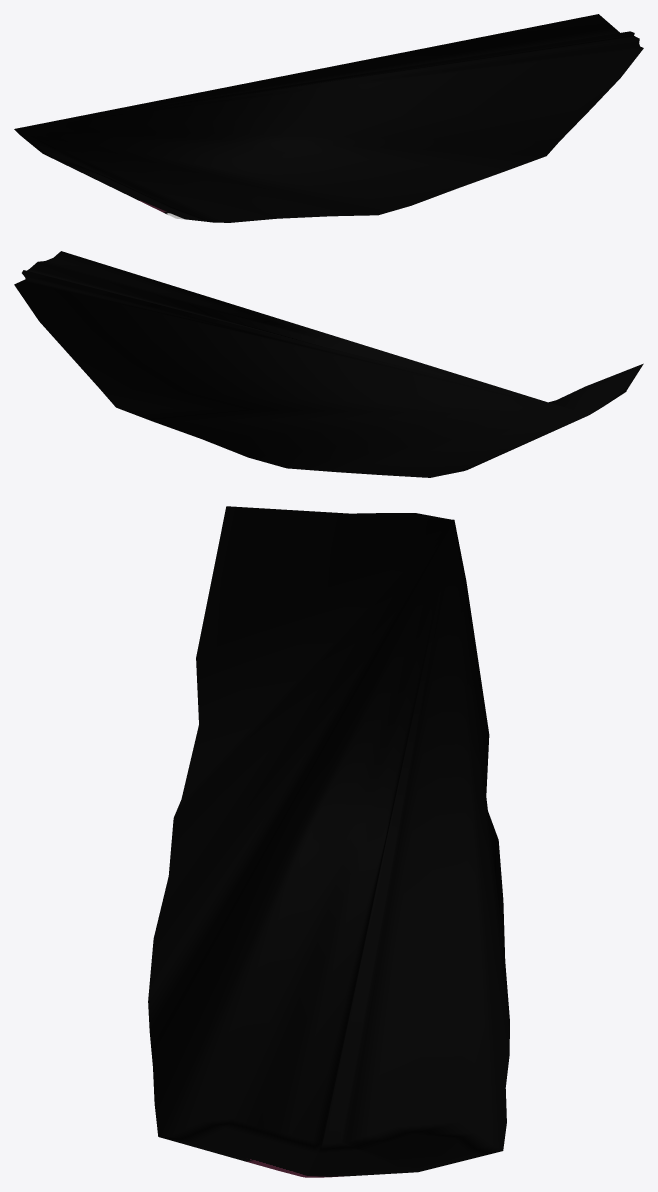
File: mr_farts1.fbx
3 views of the same model, one above another, from view 1: azimuth 30°, elevation 25°; view 2: azimuth 150°, elevation 25°; view 3: azimuth 270°, elevation 25° (orthographic). The views are drawn at different scales.
Parts seen in each view (by area): view 1: mouth_01; view 2: mouth_01; view 3: mouth_01.
Boxes of the visible parts, x1=… form: mouth_01: x1=14, y1=14, x2=643, y2=222; mouth_01: x1=14, y1=251, x2=643, y2=477; mouth_01: x1=148, y1=506, x2=509, y2=1177.
Size of the model in its own units: 263 by 55.59 by 69.51.
